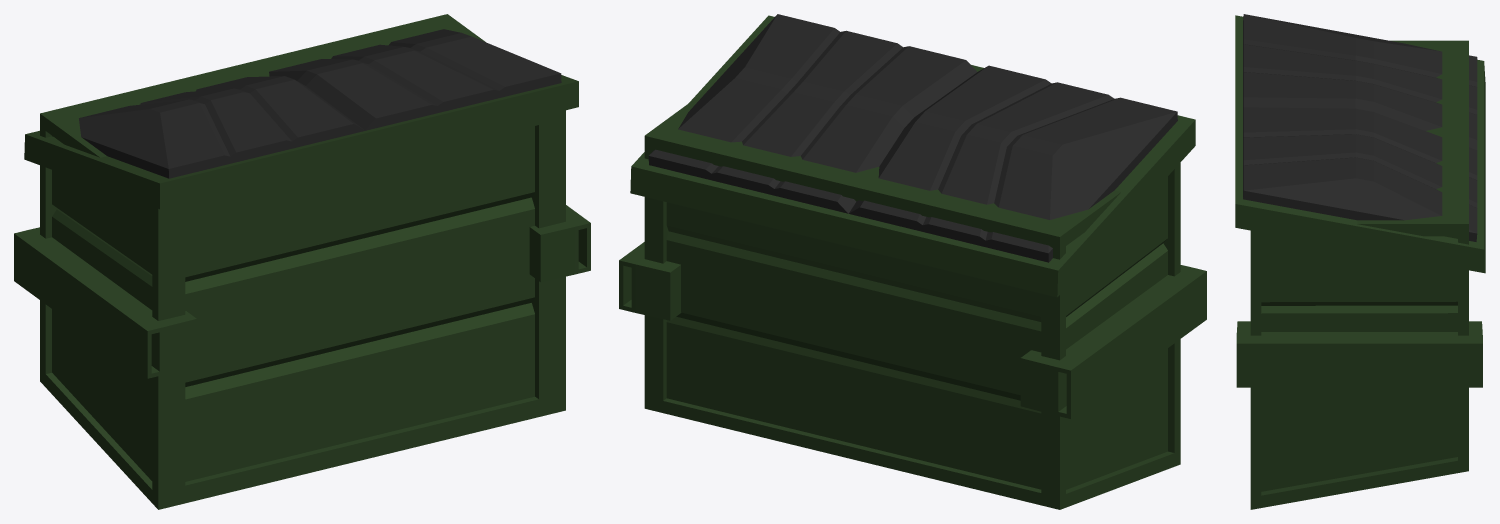
Rendered from Dumpster.fbx.
3 renders of one model, left to right at view 1: azimuth 30°, elevation 25°; view 2: azimuth 150°, elevation 25°; view 3: azimuth 270°, elevation 25°, orthographic. The views are drawn at different scales.
Visible parts, largest first — view 1: Cube.002, Cube.003; view 2: Cube.002, Cube.003; view 3: Cube.002, Cube.003.
Boxes of the visible parts, x1,y1,x2,y2 form: Cube.002: [14, 14, 590, 509]; Cube.003: [24, 29, 578, 209]; Cube.002: [619, 90, 1206, 509]; Cube.003: [630, 14, 1195, 297]; Cube.002: [1236, 40, 1482, 509]; Cube.003: [1235, 14, 1485, 273].
Size of the model in its own units: 486 by 358 by 257.
